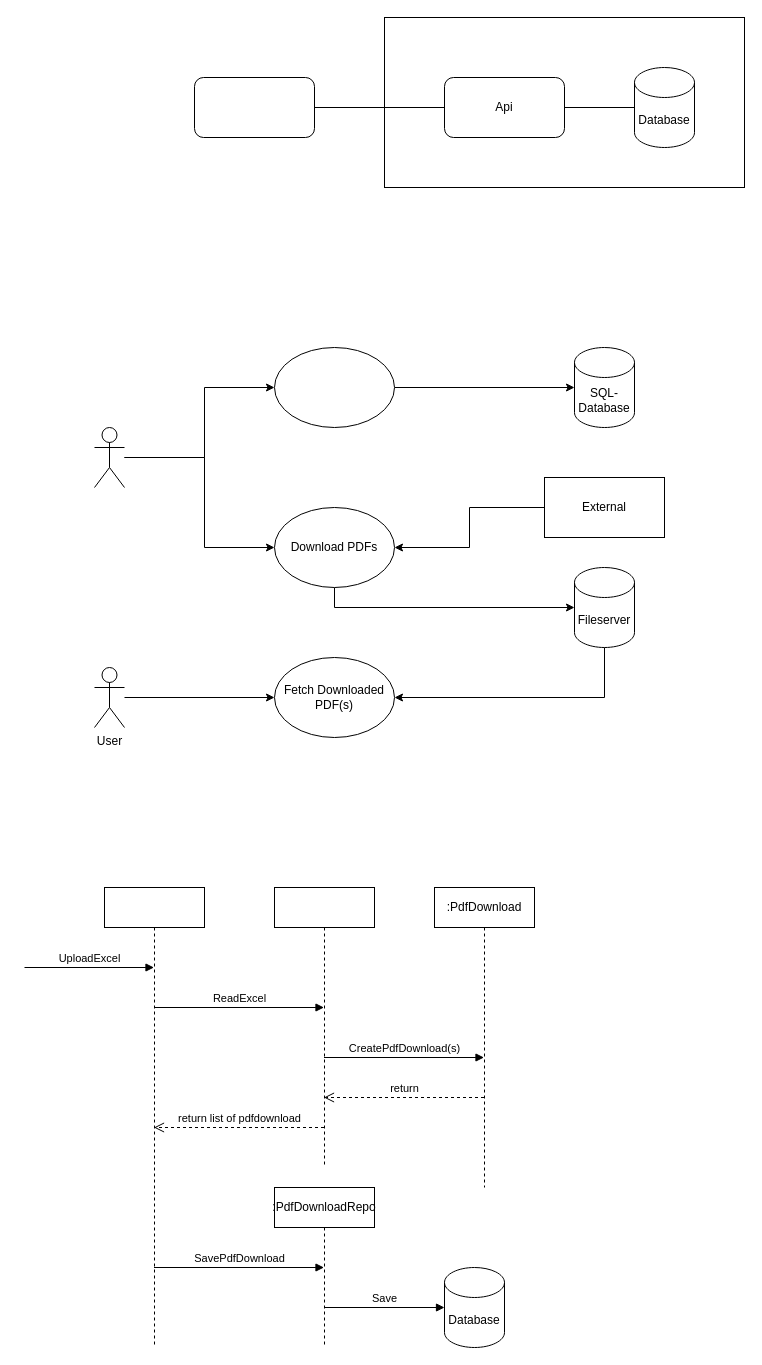
The diagram is 762 pixels wide and 1365 high, and some of its shapes have lost their labels. The shapes that lost their labels are listed below. From the top down, each one's box as (x1, y1, x2, y2) in pixels, then its label:
(194, 76, 314, 138): Client
(274, 346, 394, 428): Upload Download Data
(94, 426, 124, 488): Admin
(274, 886, 374, 1168): :ExcelReader
(104, 886, 204, 1348): :FileController
